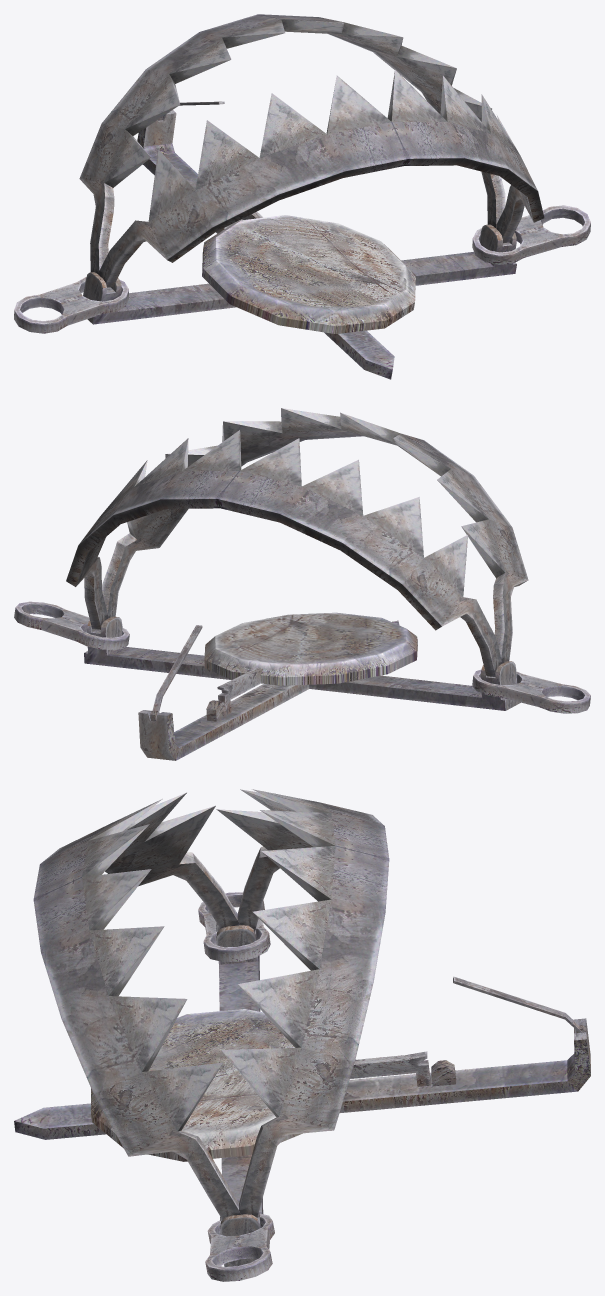
3 views of the same model, one above another, from view 1: azimuth 30°, elevation 25°; view 2: azimuth 150°, elevation 25°; view 3: azimuth 270°, elevation 25° (orthographic). The views are drawn at different scales.
Visible parts, largest first — view 1: Trap_LeftSide, Trap_Center, Trap_RightSide, Trap_Cross, Trap_1; view 2: Trap_RightSide, Trap_LeftSide, Trap_Center, Trap_Cross, Trap_1, Trap_4, Trap_3; view 3: Trap_LeftSide, Trap_RightSide, Trap_Cross, Trap_Center, Trap_1, Trap_4, Trap_3.
Boxes of the visible parts, box(x1,y1,x2,y2) form: Trap_LeftSide: box(99, 70, 544, 287); Trap_Center: box(202, 215, 415, 333); Trap_RightSide: box(79, 14, 505, 274); Trap_Cross: box(83, 110, 516, 379); Trap_1: box(14, 205, 590, 333); Trap_RightSide: box(66, 430, 502, 676); Trap_LeftSide: box(102, 408, 528, 663); Trap_Center: box(204, 612, 417, 685); Trap_Cross: box(84, 616, 520, 760); Trap_1: box(14, 601, 590, 713); Trap_4: box(217, 668, 262, 715); Trap_3: box(152, 625, 202, 717); Trap_LeftSide: box(33, 792, 241, 1219); Trap_RightSide: box(216, 789, 389, 1217); Trap_Cross: box(14, 923, 590, 1266); Trap_Center: box(91, 1009, 302, 1161); Trap_1: box(198, 892, 274, 1281); Trap_4: box(350, 1051, 430, 1086); Trap_3: box(453, 976, 582, 1032).
Size of the model in its own units: 150 by 70.57 by 111.
1 material, 1 textured.
